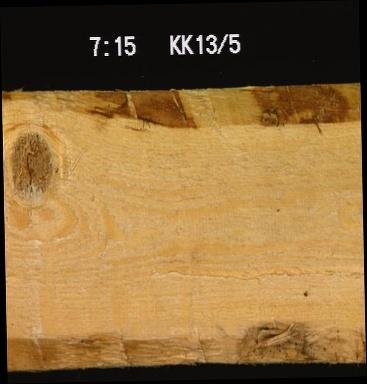small_knot: (299, 286, 309, 300)
sound_knot: (5, 129, 53, 200)
wave: (6, 321, 364, 365), (1, 86, 358, 126)
